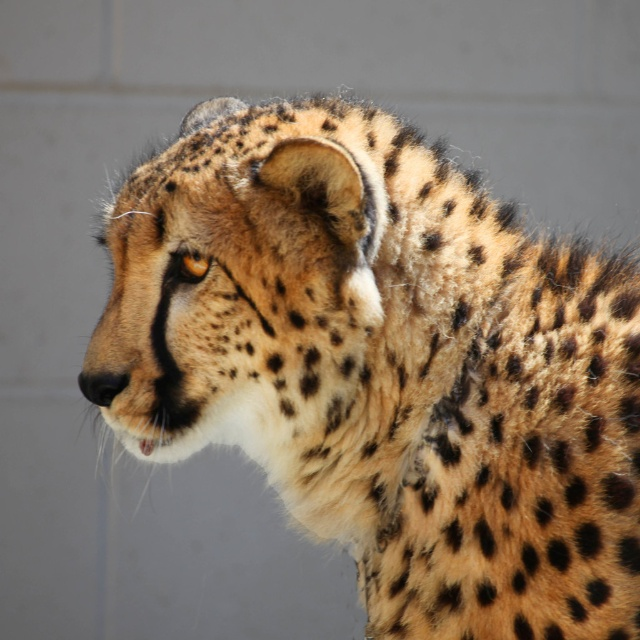Jaguar: (70, 83, 640, 640)
